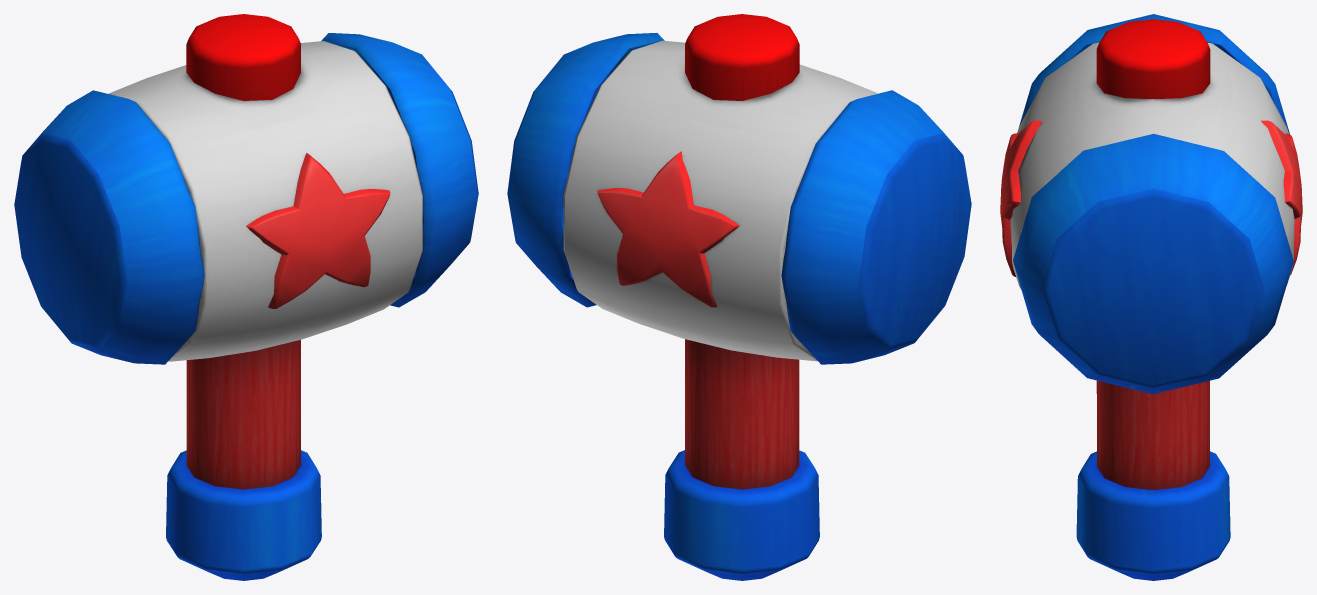
The model's file is 0-hammer.fbx.
3 views of the same model, side by side, from view 1: azimuth 30°, elevation 25°; view 2: azimuth 150°, elevation 25°; view 3: azimuth 270°, elevation 25° (orthographic).
Visible parts, largest first — view 1: 0-hammer; view 2: 0-hammer; view 3: 0-hammer.
Boxes of the visible parts, <box> form: 0-hammer: <box>14,14,478,580</box>; 0-hammer: <box>507,14,971,580</box>; 0-hammer: <box>1000,14,1302,580</box>.
Size of the model in its own units: 68.76 by 94.25 by 48.18.
